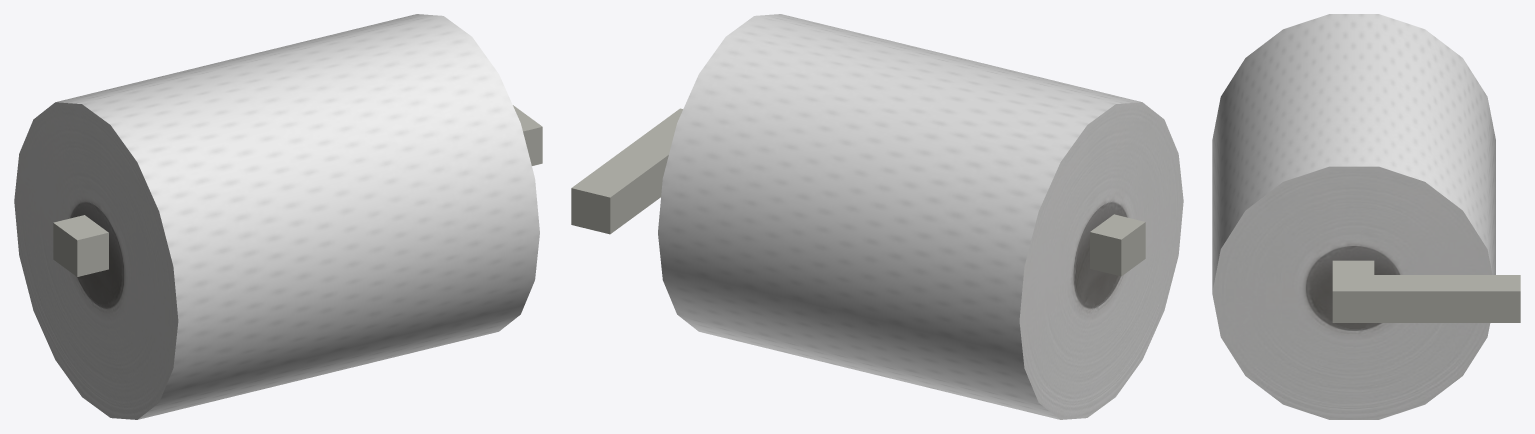
The model's file is ToiletPaper.FBX.
3 renders of one model, left to right at view 1: azimuth 30°, elevation 25°; view 2: azimuth 150°, elevation 25°; view 3: azimuth 270°, elevation 25°, orthographic. The views are drawn at different scales.
Parts seen in each view (by area): view 1: ToiletPaper; view 2: ToiletPaper; view 3: ToiletPaper.
Part boxes in pixels (<box>): ToiletPaper: <box>14,14,542,419</box>; ToiletPaper: <box>571,14,1183,419</box>; ToiletPaper: <box>1212,14,1520,419</box>.
Bounding box in the file's own units: 12.8 × 7.7 × 8.5.
